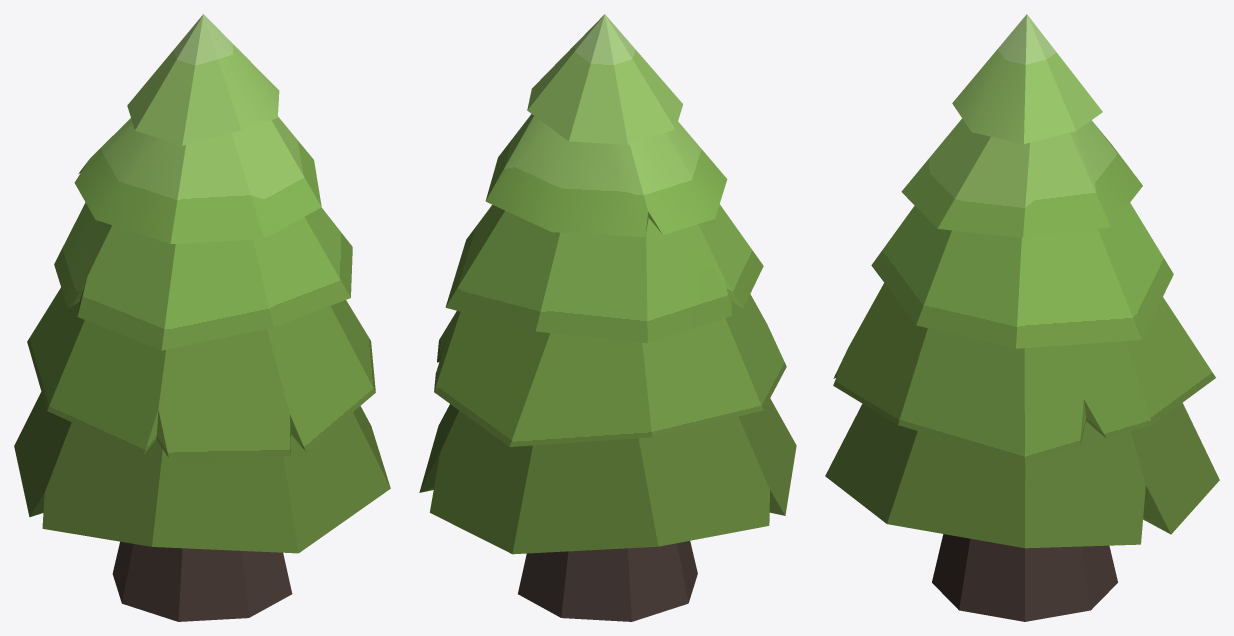
File: tree_sapin-1.glb
3 renders of one model, left to right at view 1: azimuth 30°, elevation 25°; view 2: azimuth 150°, elevation 25°; view 3: azimuth 270°, elevation 25°, orthographic.
Visible parts, largest first — view 1: Object_49; view 2: Object_49; view 3: Object_49.
Boxes of the visible parts, x1=… form: Object_49: x1=14, y1=14, x2=390, y2=621; Object_49: x1=419, y1=14, x2=796, y2=621; Object_49: x1=825, y1=14, x2=1219, y2=621.
Size of the model in its own units: 2.45 by 3.94 by 2.48.
Materials: 1 (1 with a texture image).
